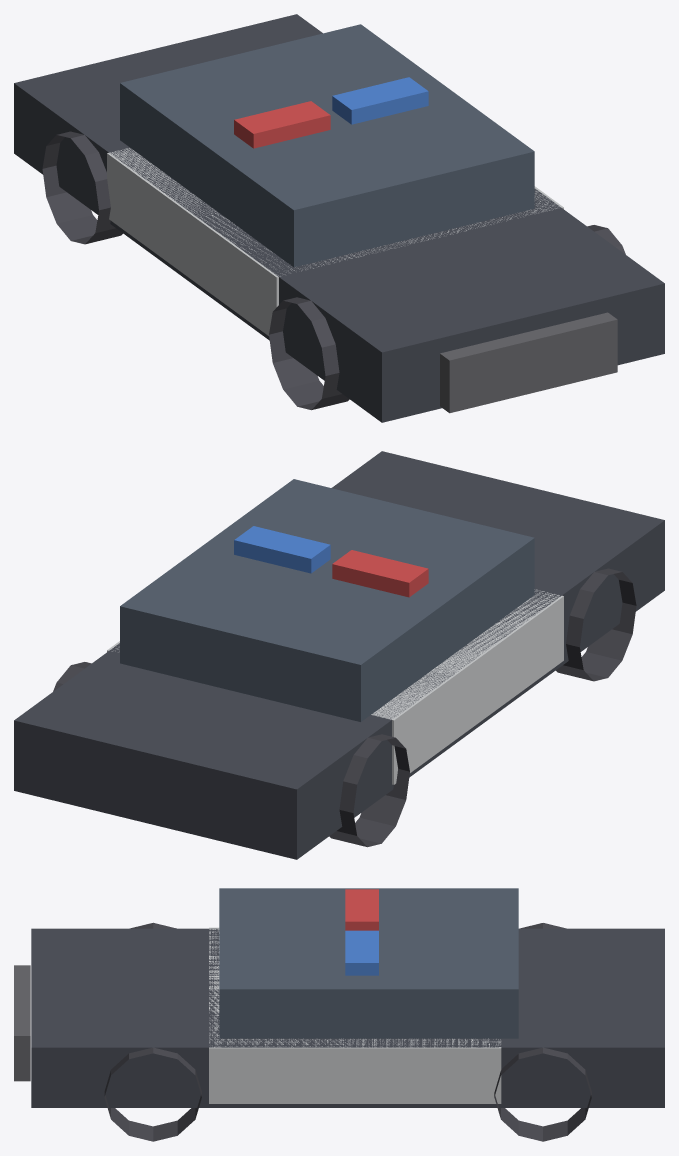
The model's file is vehicle_police.glb.
3 views of the same model, one above another, from view 1: azimuth 30°, elevation 25°; view 2: azimuth 150°, elevation 25°; view 3: azimuth 270°, elevation 25° (orthographic). The views are drawn at different scales.
Visible parts, largest first — view 1: LSPDCruiser; view 2: LSPDCruiser; view 3: LSPDCruiser.
Part boxes in pixels (box(x1,y1,x2,y2)): LSPDCruiser: box(14, 14, 664, 422); LSPDCruiser: box(14, 451, 664, 859); LSPDCruiser: box(14, 888, 664, 1141).
Bounding box in the file's own units: 2.22 × 1.19 × 4.68.
